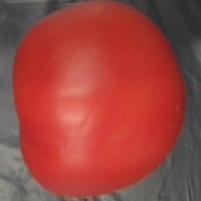unripe: (9, 0, 191, 201)
